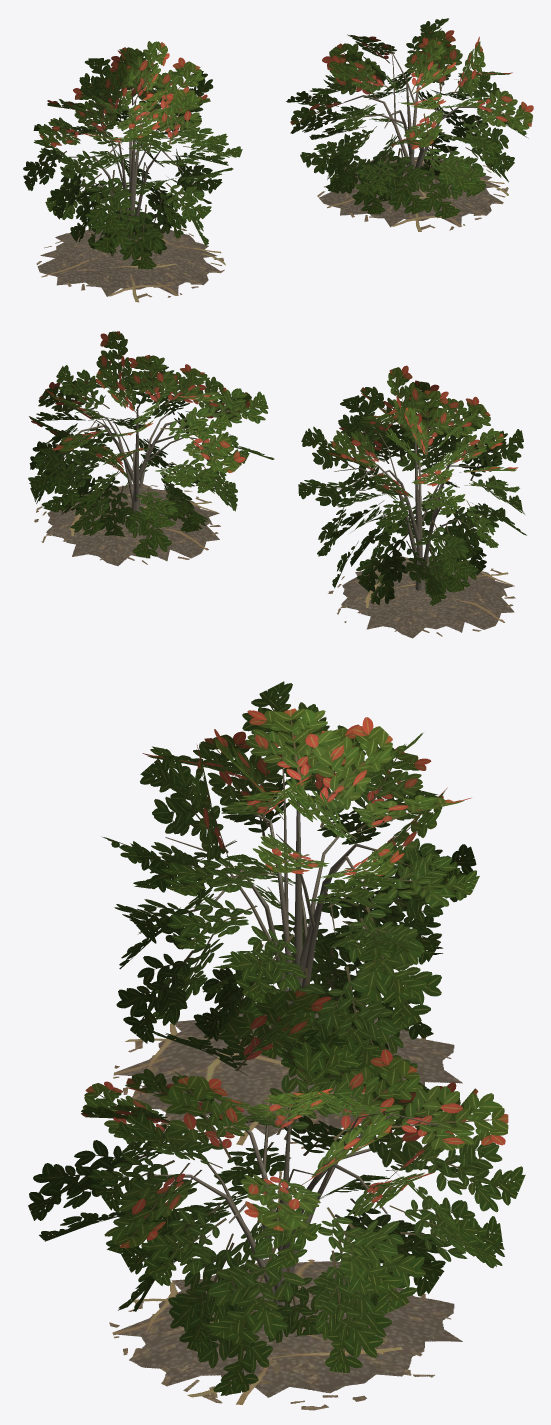
The model's file is shrubs_tropical.glb.
The picture shows the model from 3 angles, top to bottom: view 1: azimuth 30°, elevation 25°; view 2: azimuth 150°, elevation 25°; view 3: azimuth 270°, elevation 25°; orthographic projection. The views are drawn at different scales.
Parts seen in each view (by area): view 1: variant_a_lod0, variant_b_lod0; view 2: variant_a_lod0, variant_b_lod0; view 3: variant_b_lod0, variant_a_lod0.
Boxes of the visible parts, x1,y1,x2,y2 form: variant_a_lod0: (23,41,242,302); variant_b_lod0: (286,18,533,231); variant_a_lod0: (298,365,526,638); variant_b_lod0: (28,331,274,565); variant_b_lod0: (28,990,525,1410); variant_a_lod0: (101,681,479,1148).
Size of what is drawn, in the model's own units: 4.25 by 1.87 by 2.13.
Materials: 2 (2 with a texture image).
